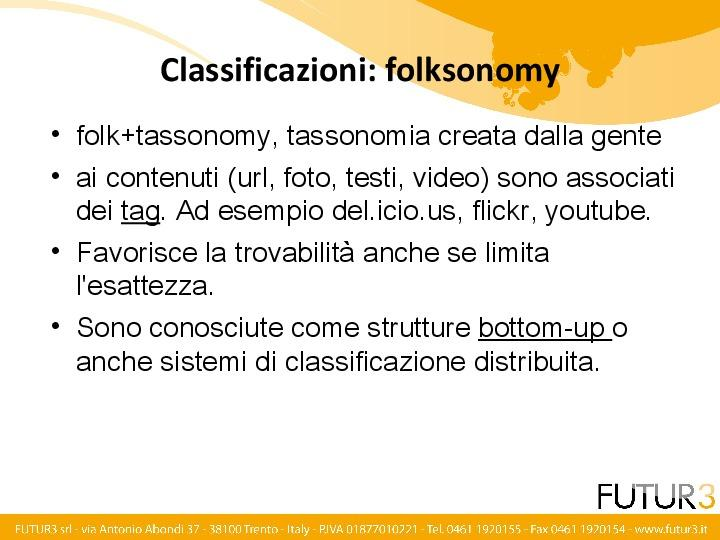paragraph: (66, 105, 689, 397)
title: (152, 46, 569, 100)
